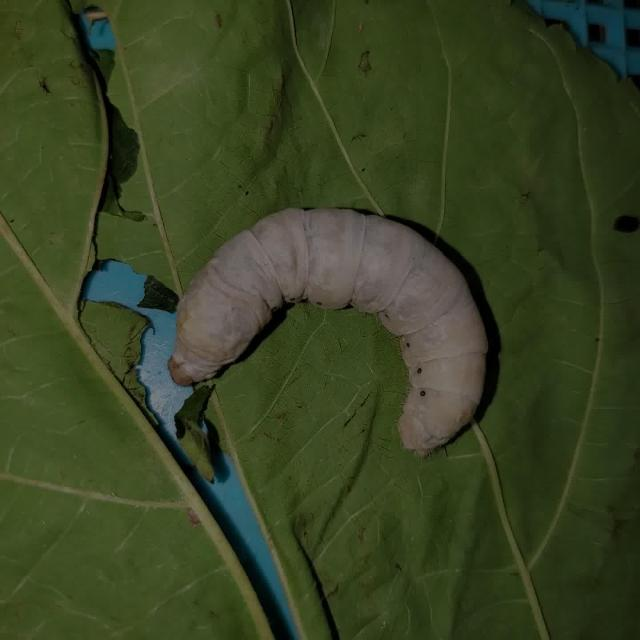Grasserie: (164, 179, 504, 463)
